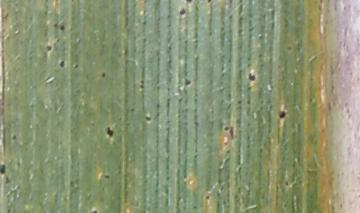tarspot: (103, 125, 116, 140), (182, 76, 194, 88), (247, 71, 258, 84), (58, 56, 66, 73), (56, 22, 68, 33), (277, 108, 287, 120), (1, 162, 9, 177), (44, 43, 55, 53), (222, 123, 232, 134), (203, 193, 214, 203), (177, 6, 186, 18), (98, 69, 107, 80), (144, 113, 152, 125), (104, 173, 112, 184), (204, 1, 214, 6)
